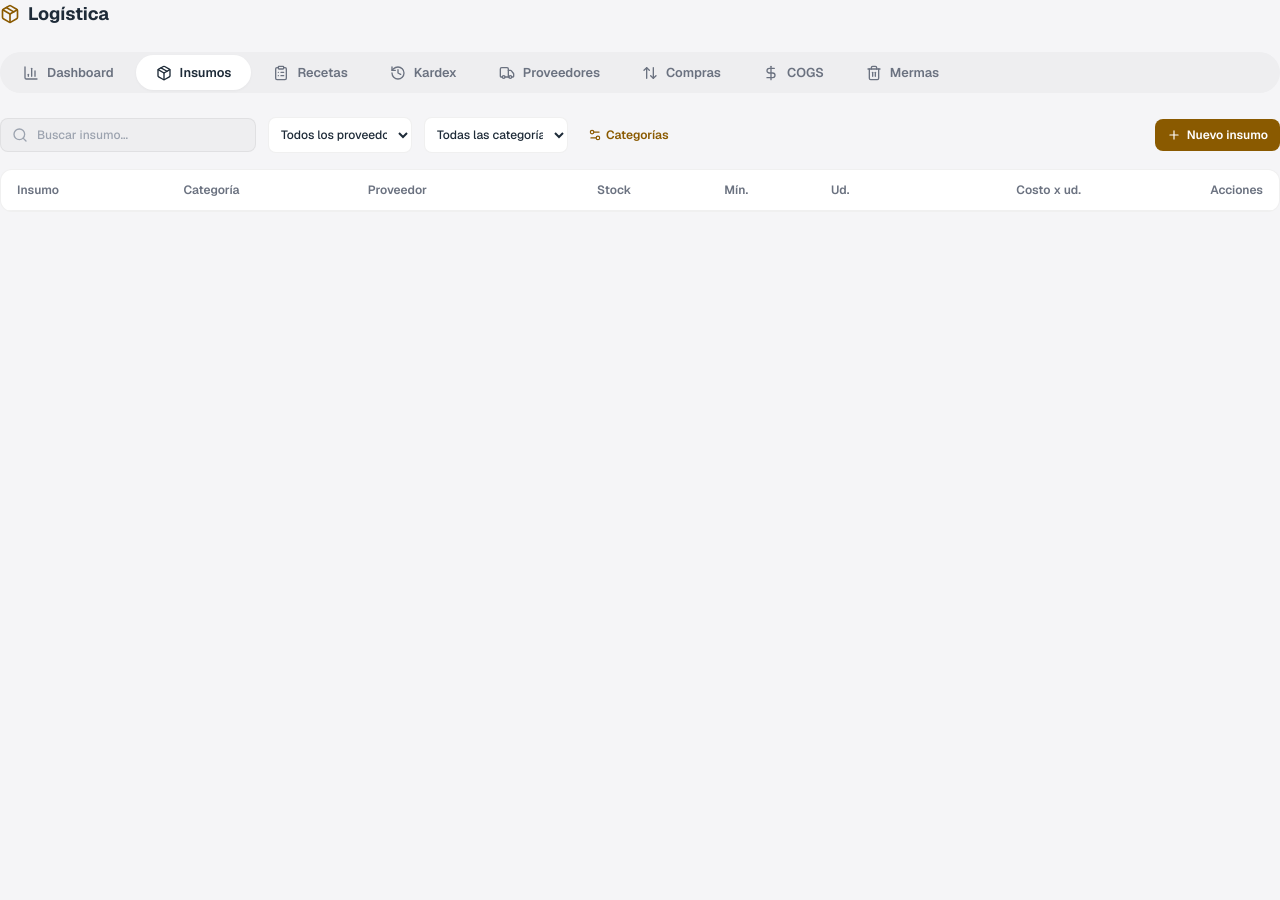
ReceiveOrderModal — confirmación y degradación › 6.1 — recepción manual sin voucher funciona end-to-end + toast 5.4 sin info de voucher
Click the button "Compras" at (681,73), box [622,55,741,90]
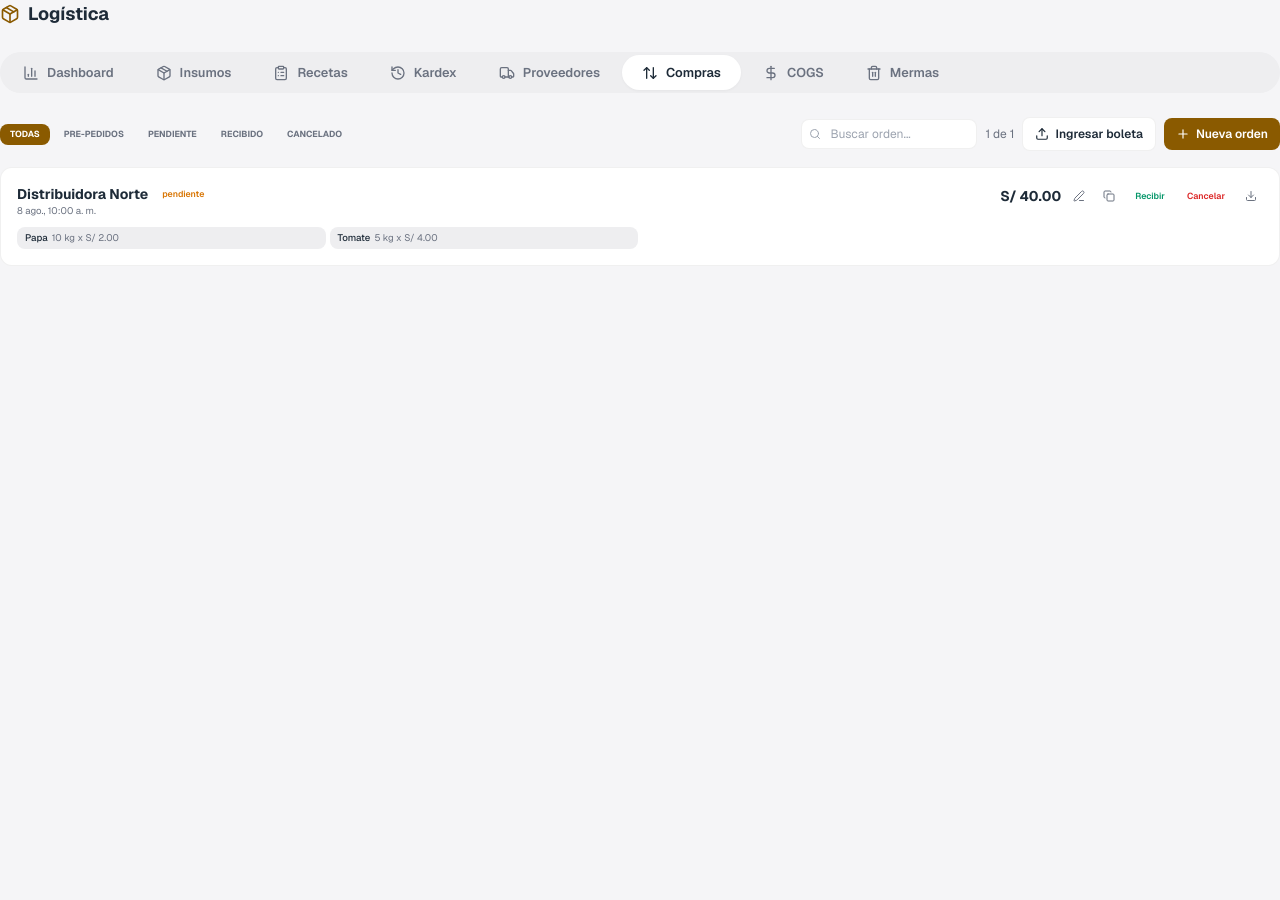
Now the text "Distribuidora Norte" is shown, box [17,184,148,204]
Click the button "Recibir" at (1150,196), box [1127,186,1173,207]
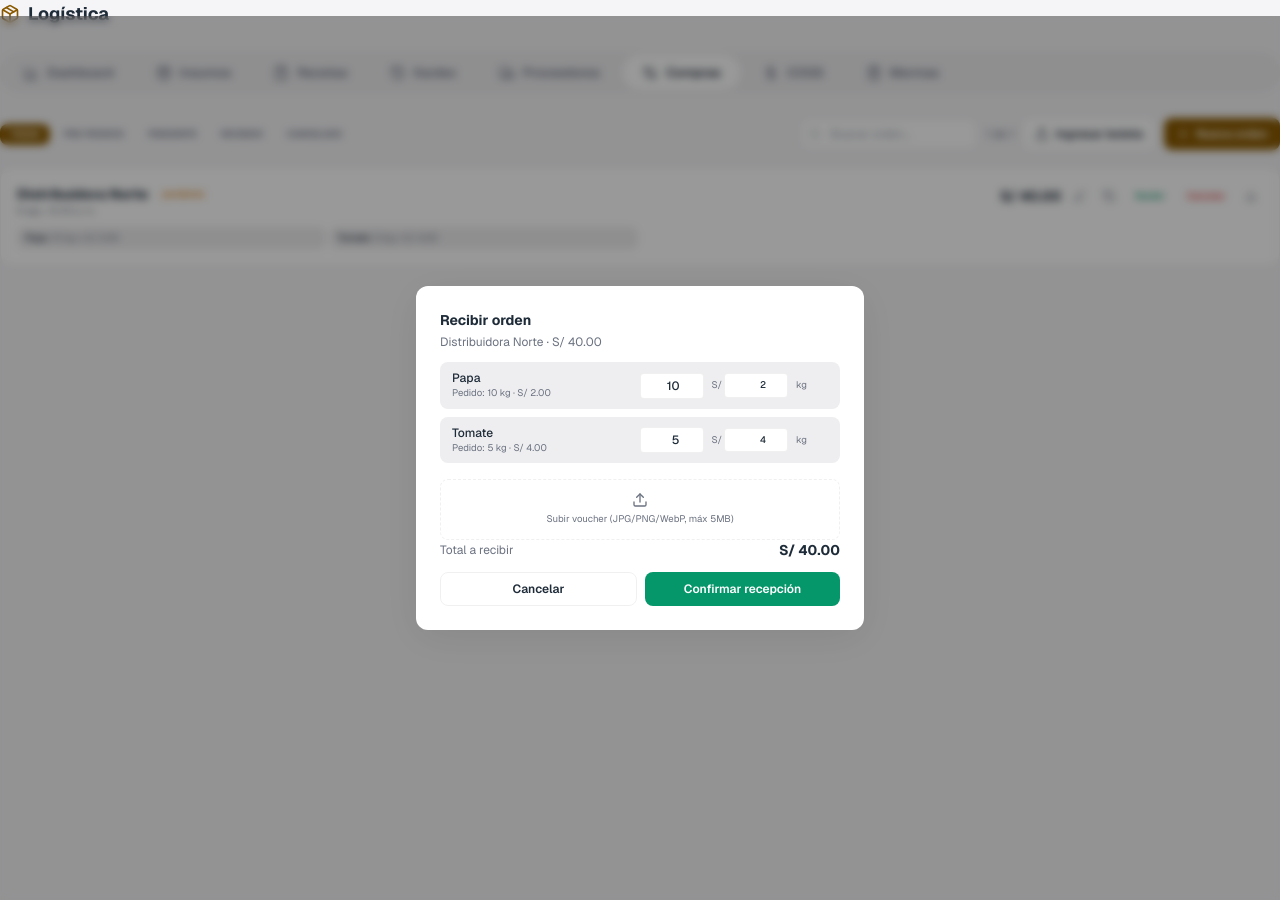
Now the button "Confirmar recepción" is shown, box [645,572,840,606]
Replace the text in the number field named "Cantidad Papa" with "7" at (672,386), box [640,373,704,399]
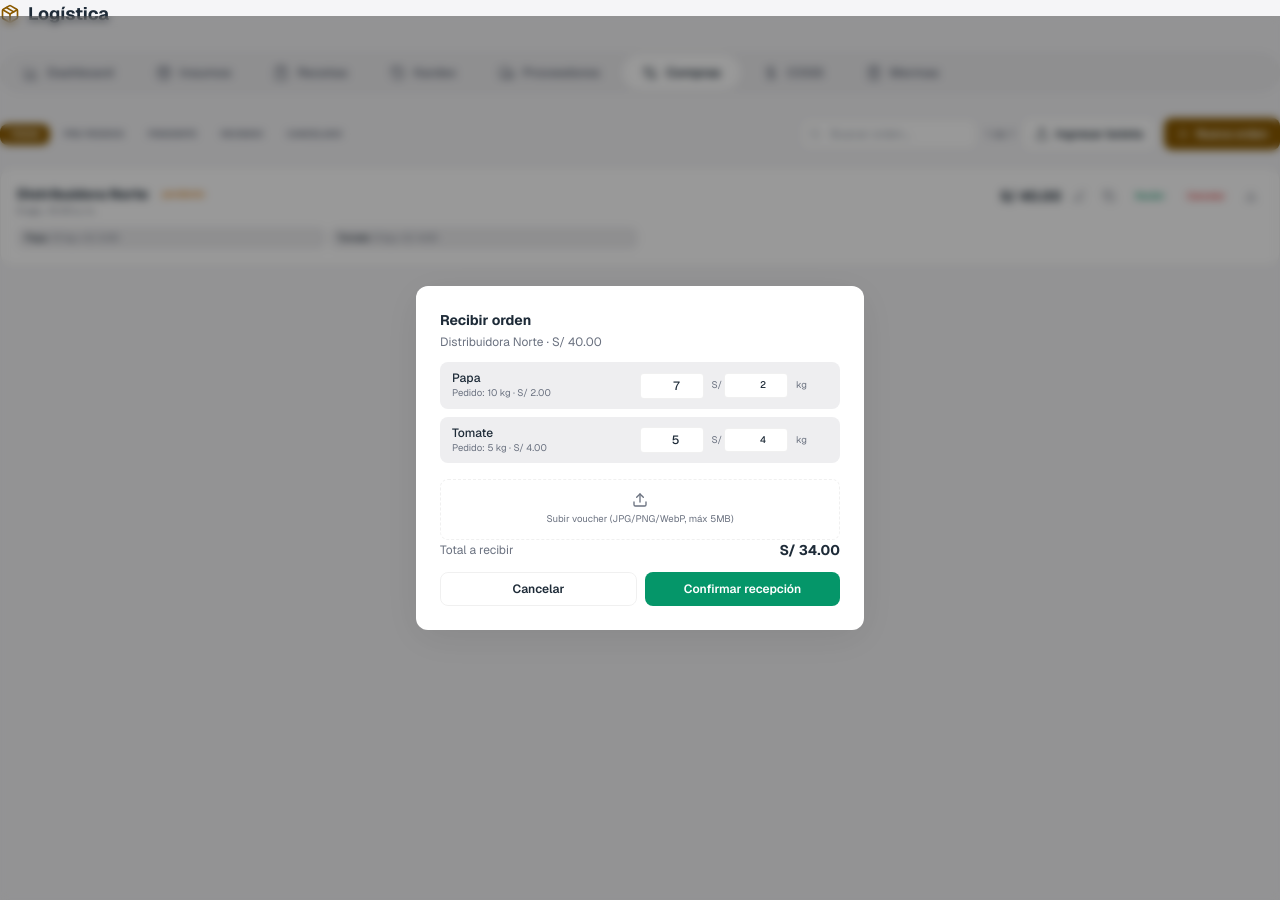
Click the button "Confirmar recepción" at (742,589), box [645,572,840,606]
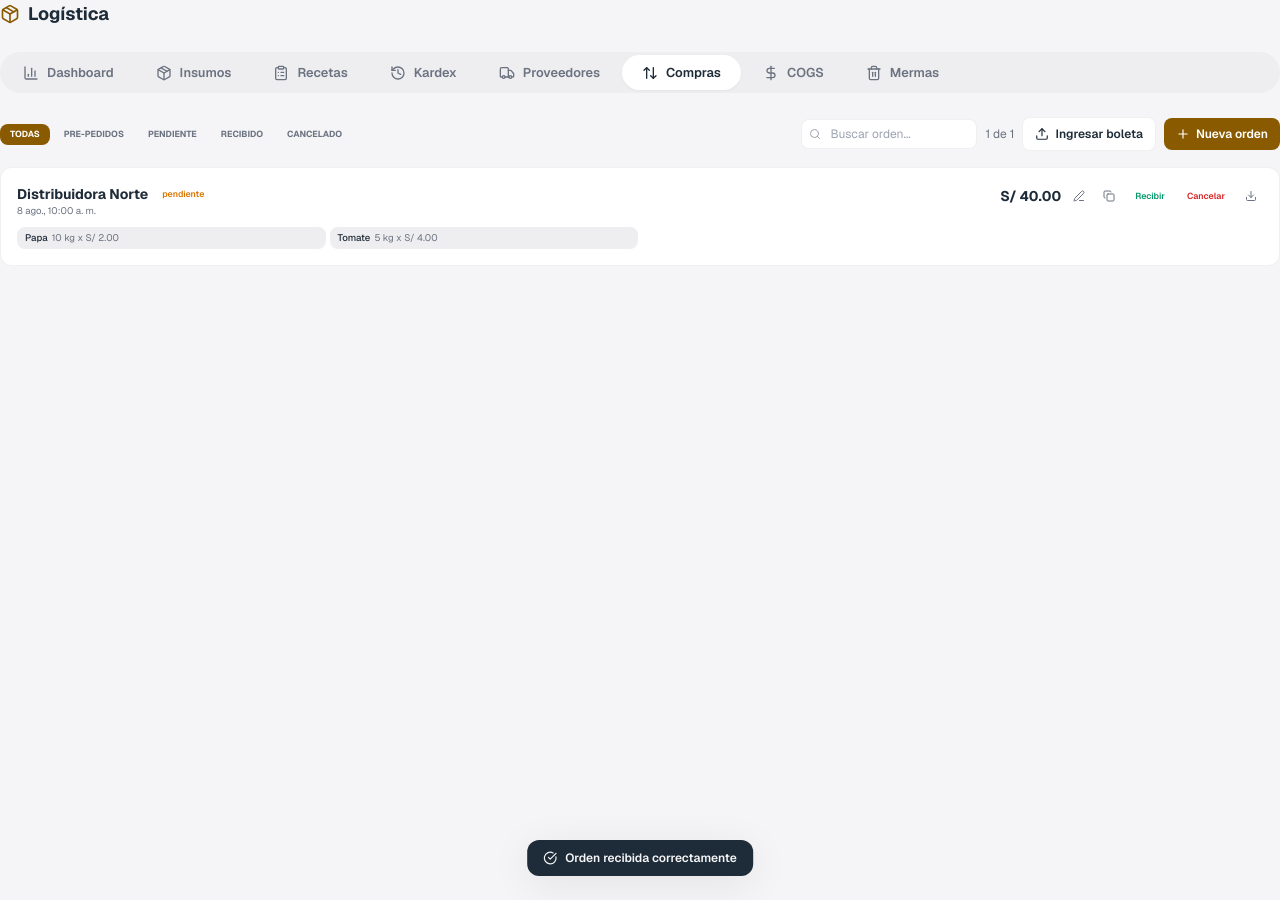
Now the text "Orden recibida correctamente" is shown, box [527,840,753,876]
Now the button "Confirmar recepción" is gone
